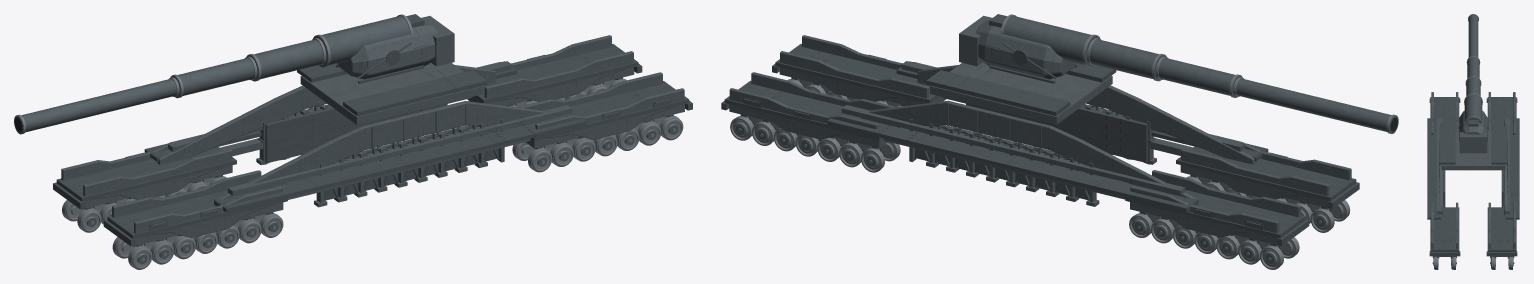
File: runtime-components-off.glb
The picture shows the model from 3 angles, left to right: view 1: azimuth 30°, elevation 25°; view 2: azimuth 150°, elevation 25°; view 3: azimuth 270°, elevation 25°; orthographic projection. The views are drawn at different scales.
Visible parts, largest first — view 1: main-outer-frame-paint-batch, walkways-deck-batch, closed-cylinder-shell-paint-batch, main-outer-frame-trim-batch, surface-decoration-paint-batch, surface-decoration-trim-batch, closed-cylinder-shell-steel-batch, closed-cylinder-shell-trim-batch, wheel-1-1-1-0, wheel--1-1--1-6, wheel-1-1--1-6, wheel-1-1--1-1 (+5 smaller); view 2: main-outer-frame-paint-batch, walkways-deck-batch, closed-cylinder-shell-paint-batch, main-outer-frame-trim-batch, surface-decoration-paint-batch, surface-decoration-trim-batch, closed-cylinder-shell-steel-batch, closed-cylinder-shell-trim-batch, wheel--1--1--1-6, wheel-1--1--1-6, wheel--1--1-1-0, wheel--1--1--1-0 (+6 smaller); view 3: walkways-deck-batch, main-outer-frame-paint-batch, closed-cylinder-shell-paint-batch, surface-decoration-trim-batch, main-outer-frame-trim-batch, closed-cylinder-shell-steel-batch, closed-cylinder-shell-trim-batch, surface-decoration-paint-batch, wheel--1--1-1-6, wheel-1-1-1-6.
Boxes of the visible parts, x1,y1,x2,y2 form: main-outer-frame-paint-batch: (61, 35, 684, 246); walkways-deck-batch: (56, 44, 689, 238); closed-cylinder-shell-paint-batch: (14, 16, 454, 133); main-outer-frame-trim-batch: (85, 77, 673, 246); surface-decoration-paint-batch: (87, 99, 678, 264); surface-decoration-trim-batch: (53, 55, 692, 246); closed-cylinder-shell-steel-batch: (14, 14, 413, 134); closed-cylinder-shell-trim-batch: (357, 14, 424, 78); wheel-1-1-1-0: (528, 147, 552, 172); wheel--1-1--1-6: (77, 208, 101, 232); wheel-1-1--1-6: (128, 245, 152, 269); wheel-1-1--1-1: (238, 218, 261, 243); main-outer-frame-paint-batch: (729, 35, 1351, 245); walkways-deck-batch: (724, 44, 1356, 238); closed-cylinder-shell-paint-batch: (959, 15, 1398, 133); main-outer-frame-trim-batch: (740, 77, 1328, 246); surface-decoration-paint-batch: (735, 99, 1324, 263); surface-decoration-trim-batch: (721, 54, 1359, 245); closed-cylinder-shell-steel-batch: (1000, 14, 1398, 133); closed-cylinder-shell-trim-batch: (989, 14, 1055, 78); wheel--1--1--1-6: (1260, 245, 1283, 269); wheel-1--1--1-6: (1310, 208, 1334, 232); wheel--1--1-1-0: (861, 148, 884, 172); wheel--1--1--1-0: (1129, 213, 1152, 237); walkways-deck-batch: (1427, 97, 1519, 251); main-outer-frame-paint-batch: (1431, 92, 1515, 256); closed-cylinder-shell-paint-batch: (1459, 15, 1487, 153); surface-decoration-trim-batch: (1429, 98, 1517, 256); main-outer-frame-trim-batch: (1437, 170, 1509, 258); closed-cylinder-shell-steel-batch: (1464, 14, 1482, 123); closed-cylinder-shell-trim-batch: (1458, 120, 1488, 129); surface-decoration-paint-batch: (1430, 99, 1516, 265); wheel--1--1-1-6: (1508, 257, 1513, 269); wheel-1-1-1-6: (1433, 257, 1438, 269).
Bounding box in the file's own units: 21.52 × 5.07 × 4.8.
Materials: 5 (3 with a texture image).
